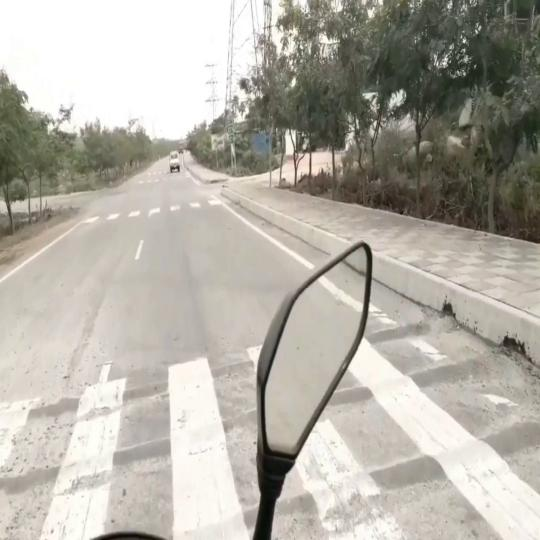Speed Bump: (297, 410, 540, 514), (0, 401, 256, 493), (0, 354, 256, 426), (358, 343, 495, 403), (179, 506, 253, 540), (372, 305, 441, 340)
